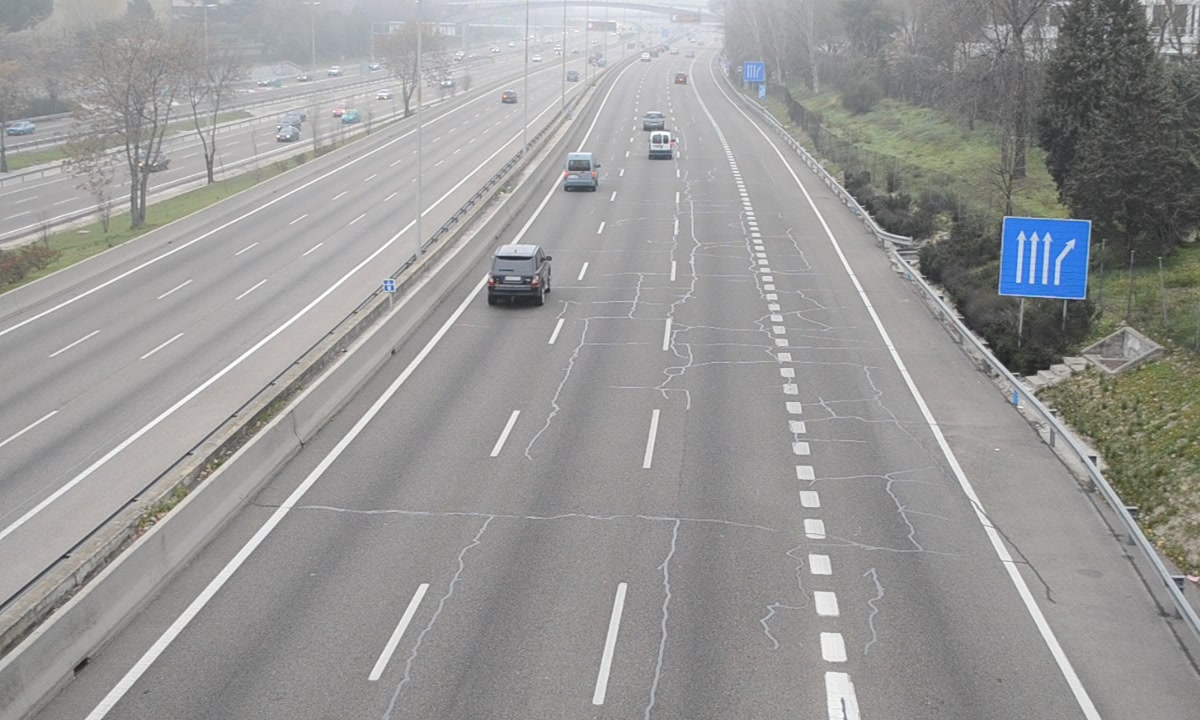car: (487, 245, 548, 298)
van: (564, 152, 597, 190), (648, 128, 674, 163)
